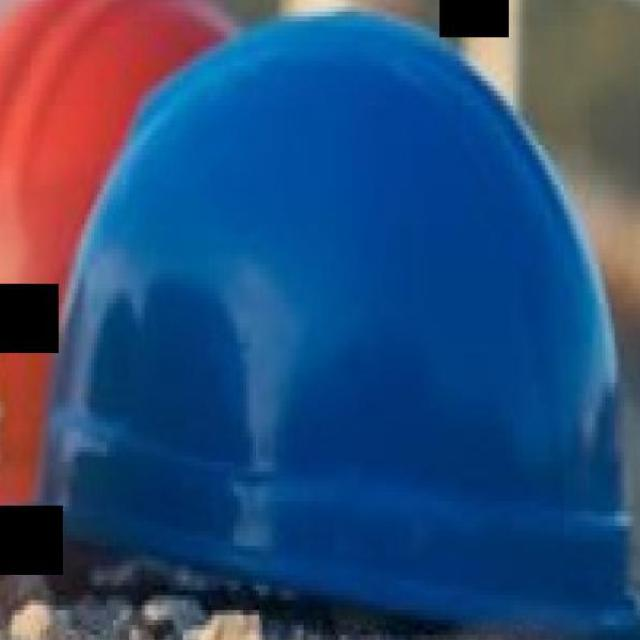helmet: (33, 6, 635, 628)
